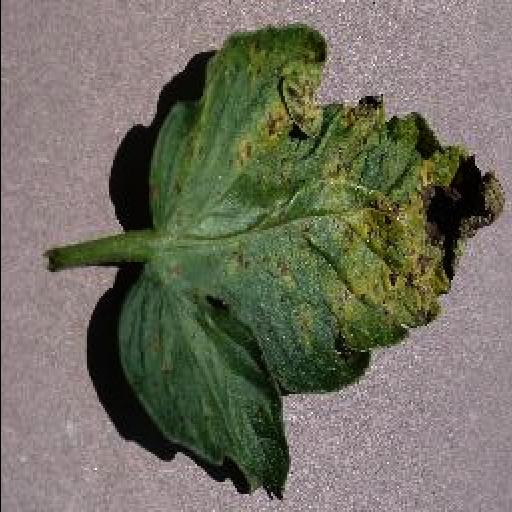disease_tomato: (114, 22, 508, 498)
